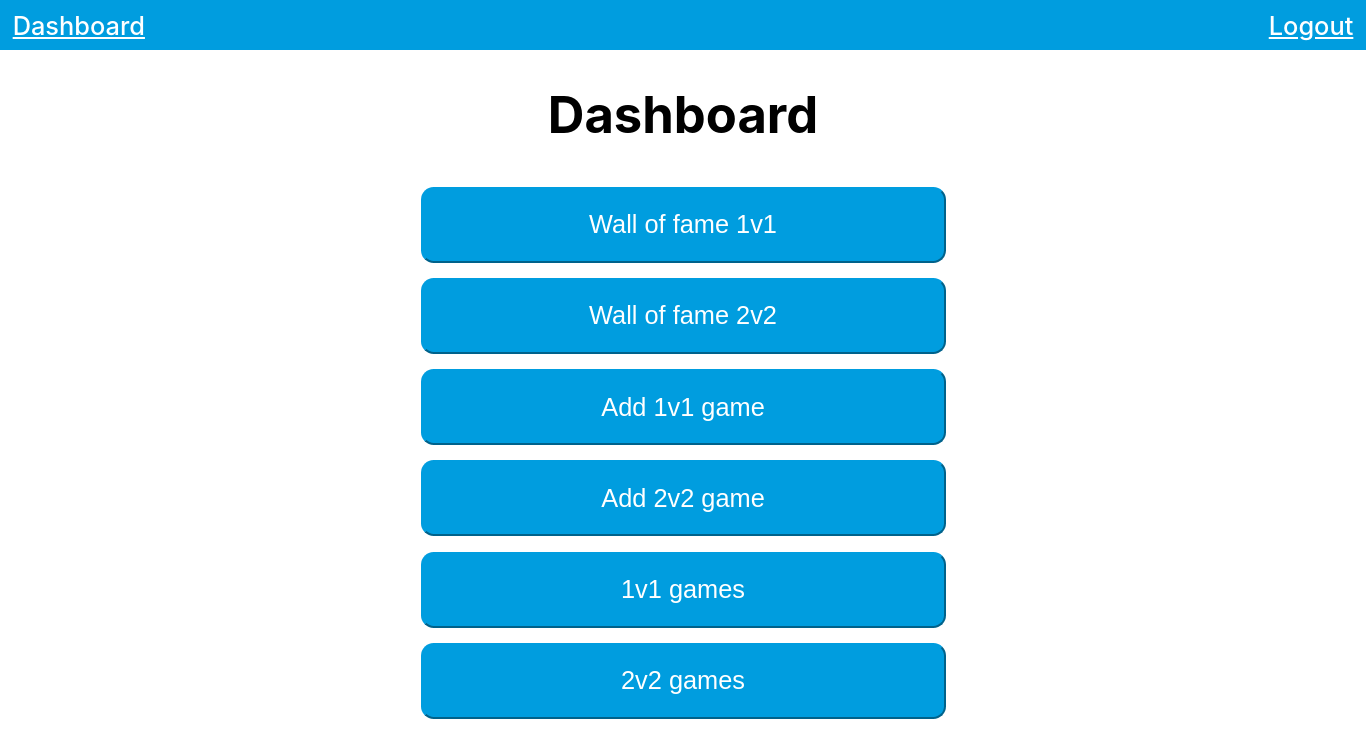
Scenario: renders the last games
Click the button "2v2 games". click: (683, 681)
box: top-left (420, 643), bottom-right (946, 719)
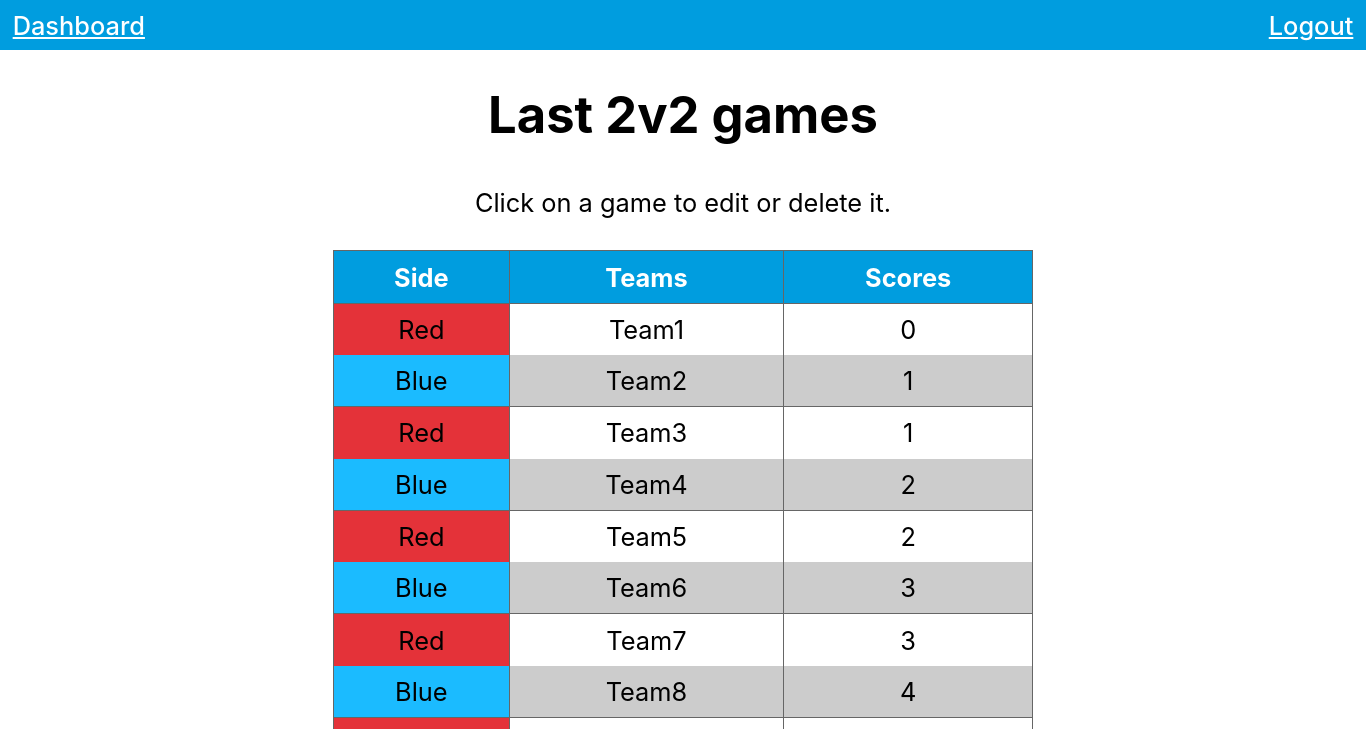
Result: the heading "Last 2v2 games" is shown at top-left (333, 84), bottom-right (1033, 145)
Result: the text "Team1" is shown at top-left (509, 303), bottom-right (784, 355)
